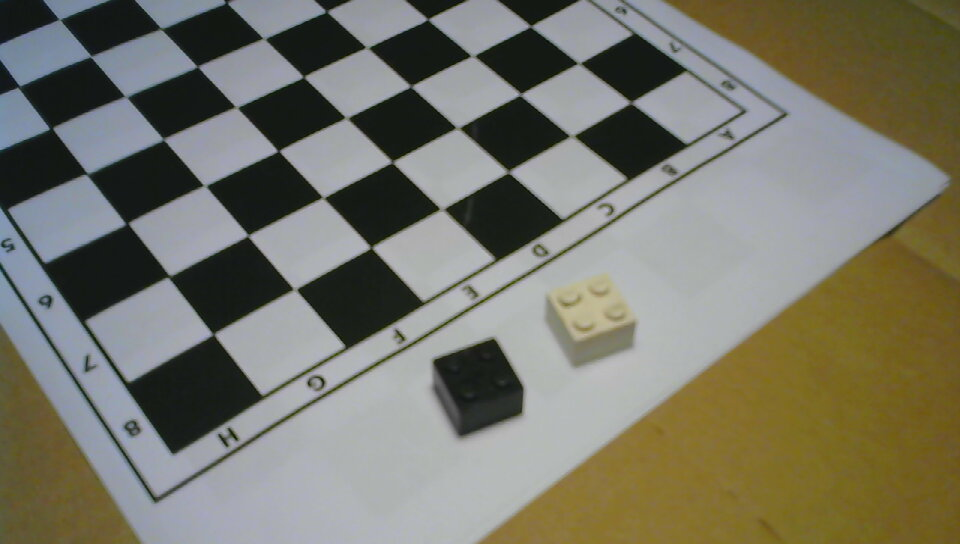bp: (430, 338, 525, 436)
wp: (548, 273, 636, 371)
